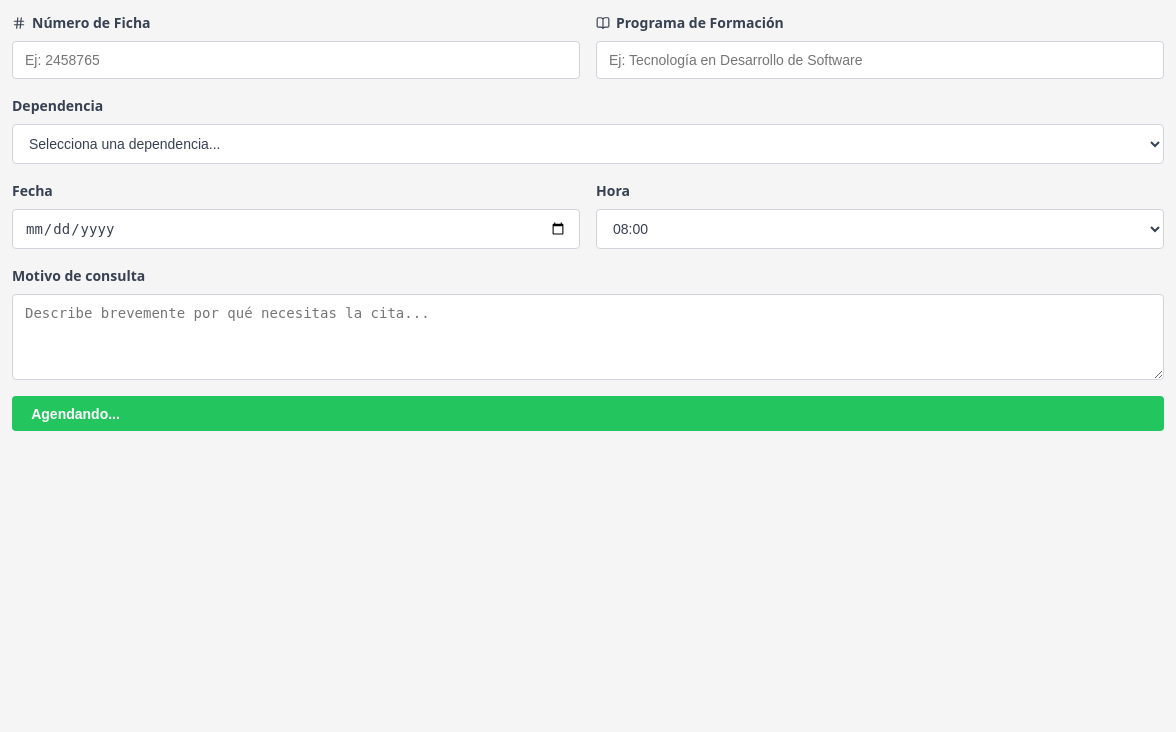
AppointmentForm Component › debería mostrar indicador de disponibilidad
Step 1. Select "Psicología" in the dropdown showing "Selecciona una dependencia..." below "Dependencia" → coordinates (588, 144), box [12,124,1164,164]
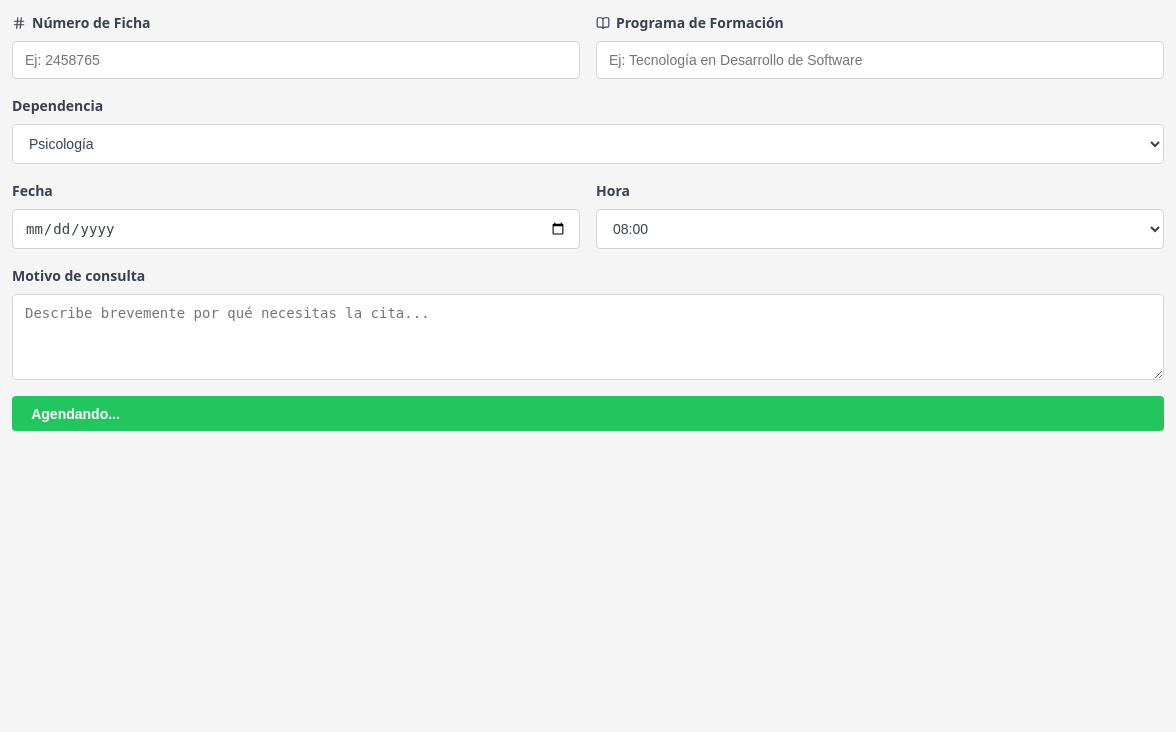
Step 2. Type "2026-07-10" into the date field → coordinates (296, 229), box [12,209,580,249]
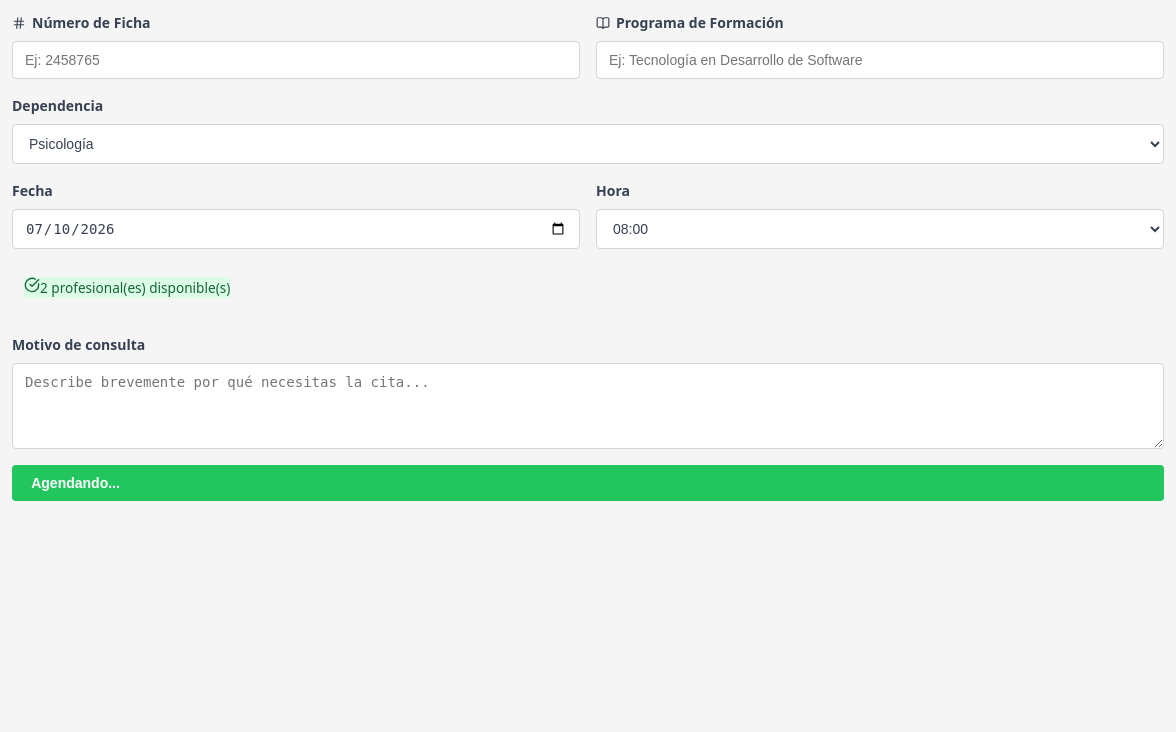
Expected: the text "Verificando disponibilidad..." is shown, [24,277,230,298]
